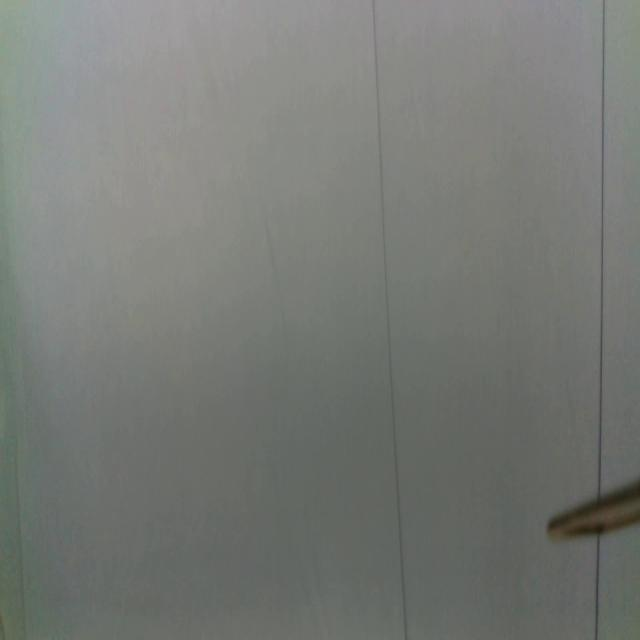crease: (370, 0, 408, 640), (596, 0, 608, 492), (14, 434, 29, 639), (591, 533, 602, 640)
